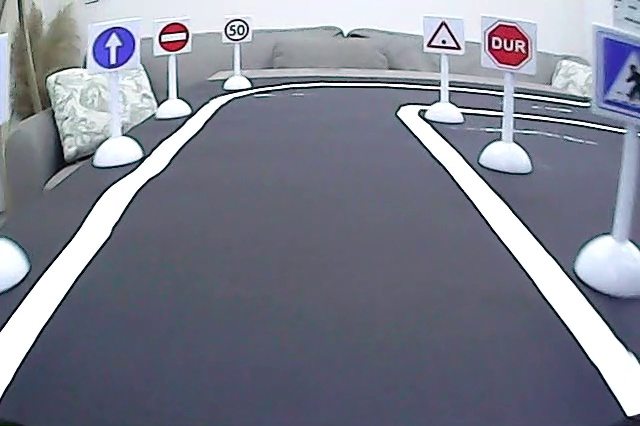do not enter: (157, 20, 191, 54)
green light: (426, 18, 464, 53)
speed limit 50: (223, 17, 251, 43)
stop sign: (482, 19, 535, 72)
